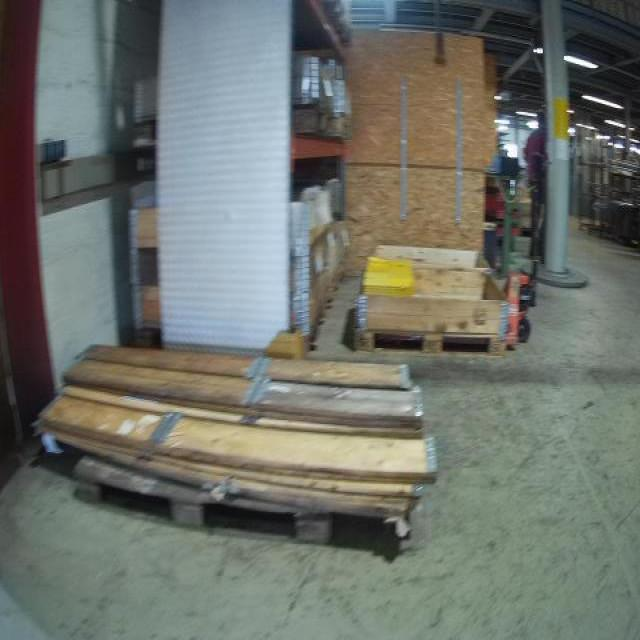pallet: (72, 451, 333, 549), (353, 325, 507, 364)
pallet_truck: (498, 147, 557, 363)
